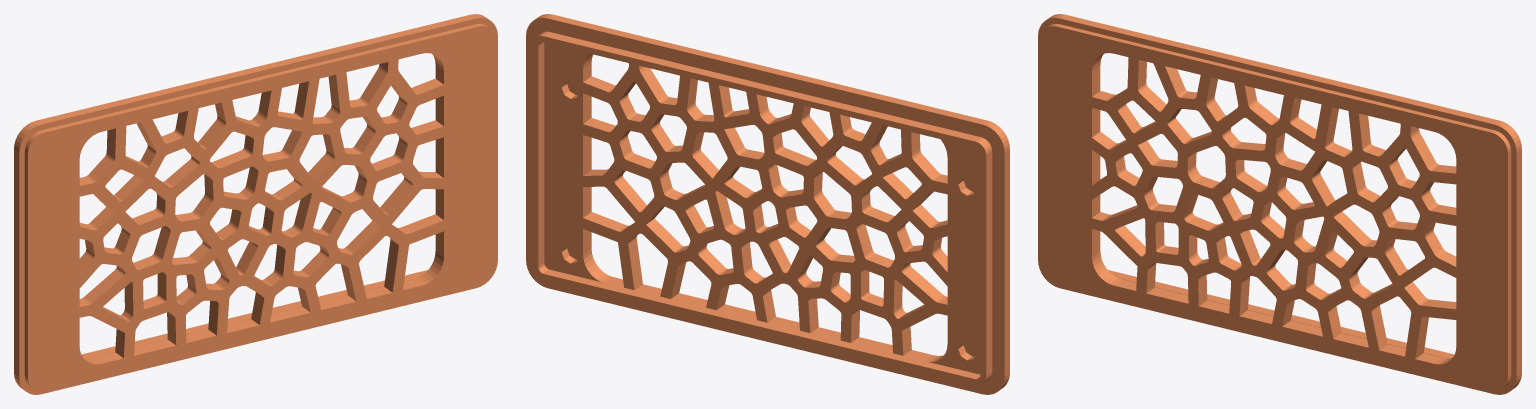
File: preview_lid.glb
The picture shows the model from 3 angles, left to right: view 1: azimuth 30°, elevation 25°; view 2: azimuth 150°, elevation 25°; view 3: azimuth 330°, elevation 25°; orthographic projection.
Visible parts, largest first — view 1: lid; view 2: lid; view 3: lid.
Boxes of the visible parts, x1,y1,x2,y2 form: lid: (14, 14, 497, 394); lid: (526, 14, 1009, 394); lid: (1038, 14, 1521, 394).
Size of the model in its own units: 70 by 37.7 by 3.65.
